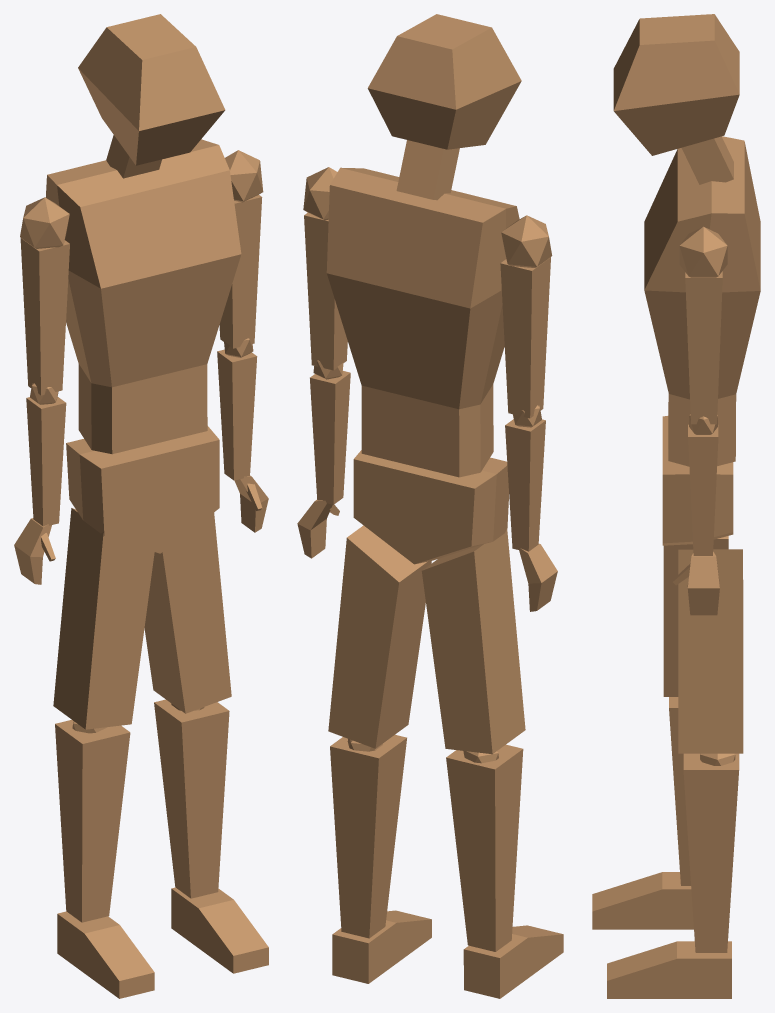
Rendered from Player.fbx.
3 renders of one model, left to right at view 1: azimuth 30°, elevation 25°; view 2: azimuth 150°, elevation 25°; view 3: azimuth 270°, elevation 25°, orthographic. The views are drawn at different scales.
Visible parts, largest first — view 1: Body, Right leg.001, Head, Body.001, Left leg.001, Right leg.003, Left leg.003, Right arm.001, Right leg, Left leg, Left arm.003, Right arm.003 (+6 smaller); view 2: Body, Right leg.001, Left leg.001, Head, Body.001, Right leg.003, Left leg.003, Right arm.001, Right leg, Left leg, Left arm.003, Right arm.003 (+6 smaller); view 3: Body, Head, Left leg.001, Left leg.003, Left leg, Right leg, Left arm.001, Body.001, Left arm.003, Right leg.001, Left arm, Right leg.003 (+3 smaller).
Boxes of the visible parts, <box> form: Body: <box>45,139,241,454</box>; Right leg.001: <box>53,508,154,729</box>; Head: <box>78,14,225,165</box>; Body.001: <box>66,426,219,553</box>; Left leg.001: <box>144,512,231,713</box>; Right leg.003: <box>55,719,130,922</box>; Left leg.003: <box>154,699,229,898</box>; Right arm.001: <box>20,238,69,395</box>; Right leg: <box>57,911,154,998</box>; Left leg: <box>171,887,268,973</box>; Left arm.003: <box>217,349,257,480</box>; Right arm.003: <box>26,397,66,526</box>; Body: <box>326,167,519,477</box>; Right leg.001: <box>421,528,525,754</box>; Left leg.001: <box>328,525,431,748</box>; Head: <box>367,14,521,149</box>; Body.001: <box>353,450,508,564</box>; Right leg.003: <box>446,744,523,951</box>; Left leg.003: <box>330,734,406,938</box>; Right arm.001: <box>500,257,550,418</box>; Right leg: <box>463,925,563,998</box>; Left leg: <box>332,910,431,983</box>; Left arm.003: <box>310,371,350,504</box>; Right arm.003: <box>505,419,545,551</box>; Body: <box>644,136,760,466</box>; Head: <box>613,14,739,155</box>; Left leg.001: <box>678,549,743,753</box>; Left leg.003: <box>683,753,739,952</box>; Left leg: <box>607,941,731,998</box>; Right leg: <box>592,872,693,929</box>; Left arm.001: <box>685,271,722,424</box>; Body.001: <box>662,416,733,545</box>; Left arm.003: <box>688,424,718,555</box>; Right leg.001: <box>663,536,728,696</box>; Left arm: <box>679,226,727,277</box>; Right leg.003: <box>669,697,690,885</box>.
Bounding box in the file's own units: 127 × 469 × 76.92.
